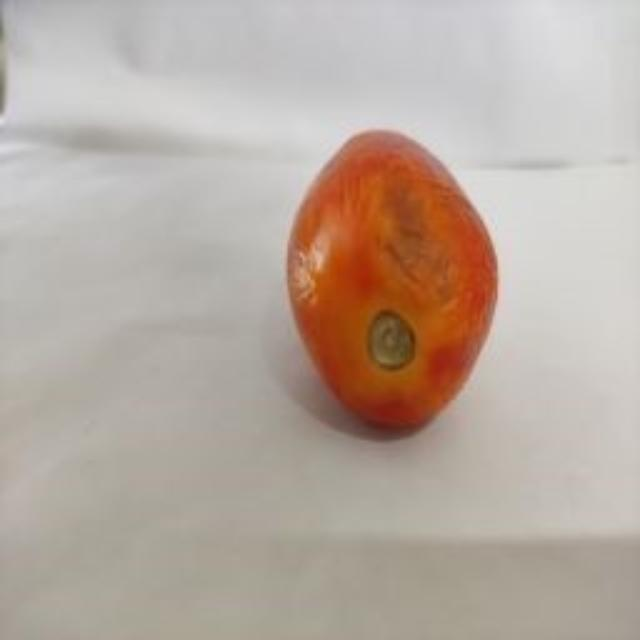defect: (275, 127, 505, 436)
